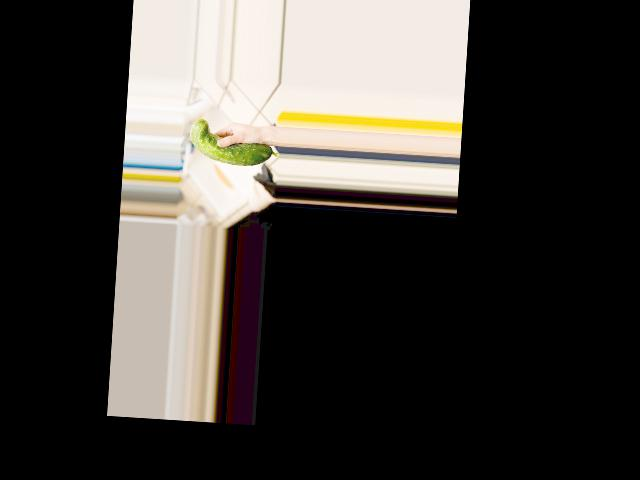cucumber: (188, 118, 280, 168)
